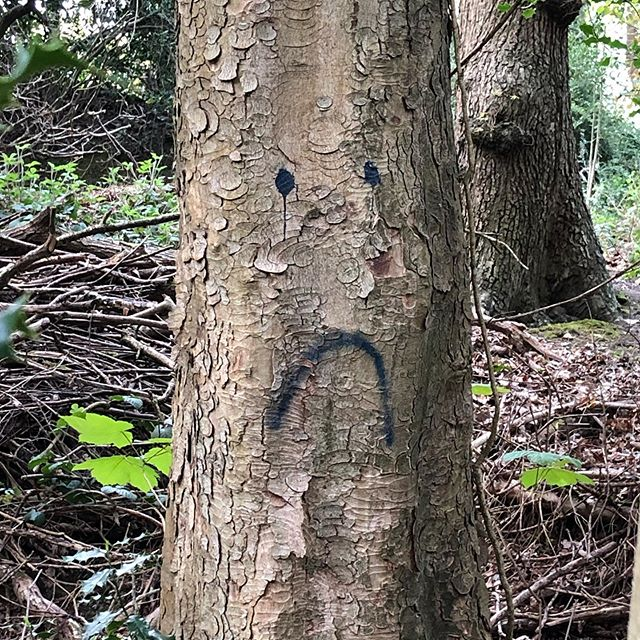graffiti: (251, 149, 428, 479)
tree trunk: (167, 12, 483, 640), (449, 1, 623, 311)
vegetation: (1, 1, 180, 613), (497, 307, 640, 635)
